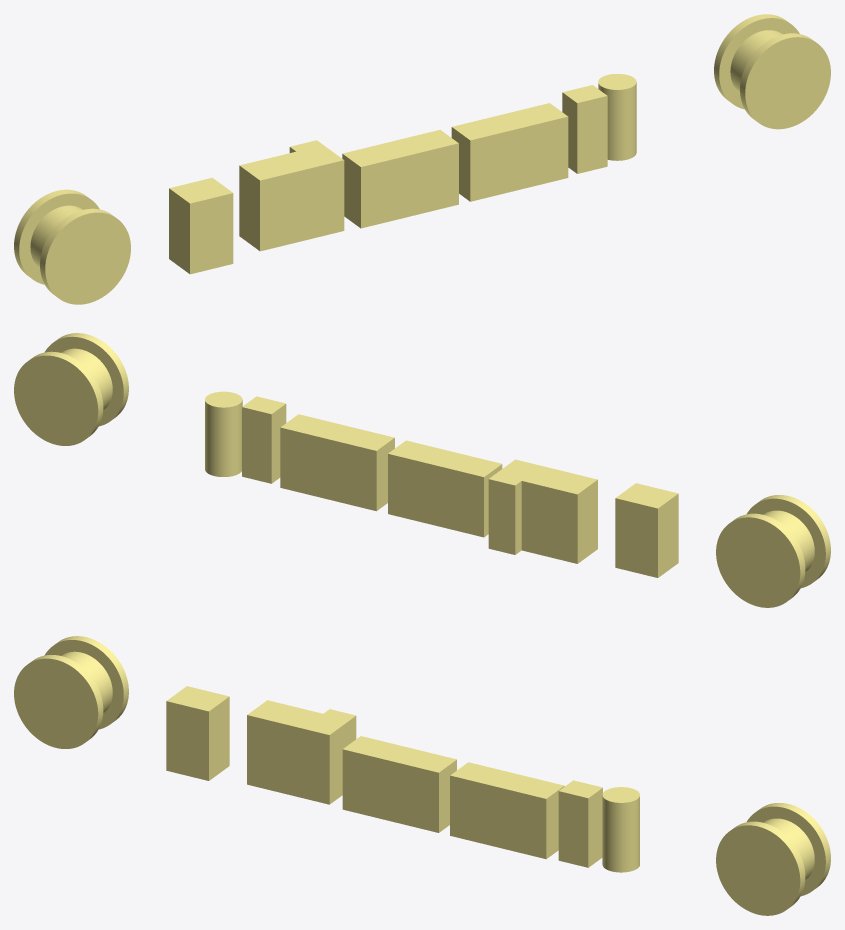
3 renders of one model, top to bottom at view 1: azimuth 30°, elevation 25°; view 2: azimuth 150°, elevation 25°; view 3: azimuth 330°, elevation 25°, orthographic.
Bounding box in the file's own units: 1757 × 195 × 148.
